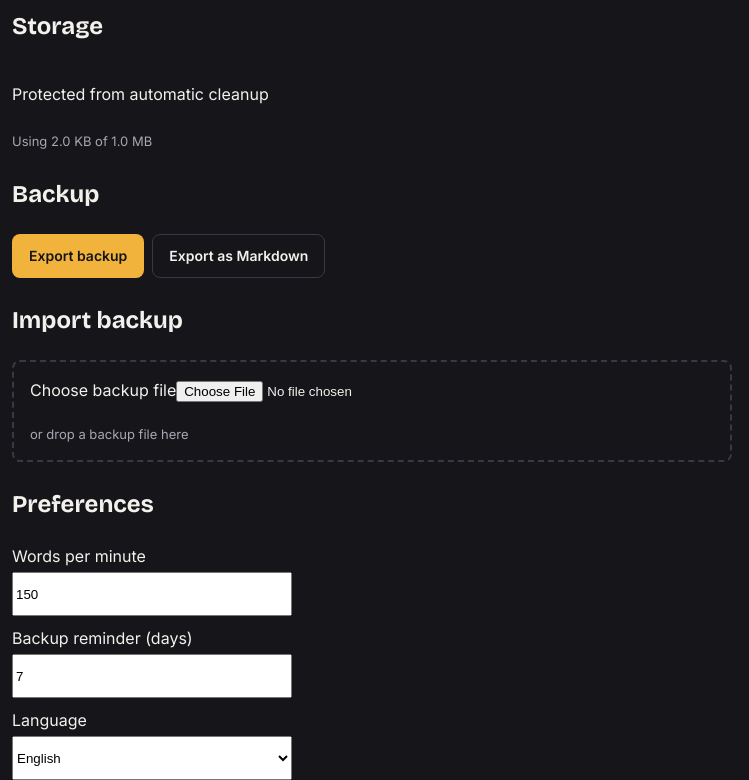
SettingsPage preferences › switches language
This screenshot has width=749, height=780.
(page scrolled)
Select "Español" in the dropdown labelled "Language" at (152, 758), box [12,736,292,779]
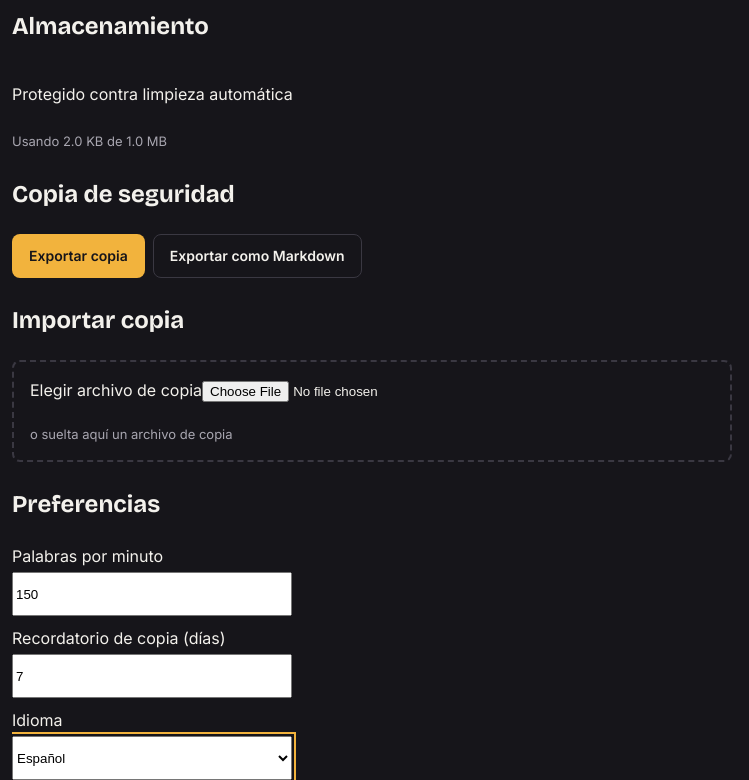
Now the heading "Preferencias" is shown, box [12,490,160,518]
